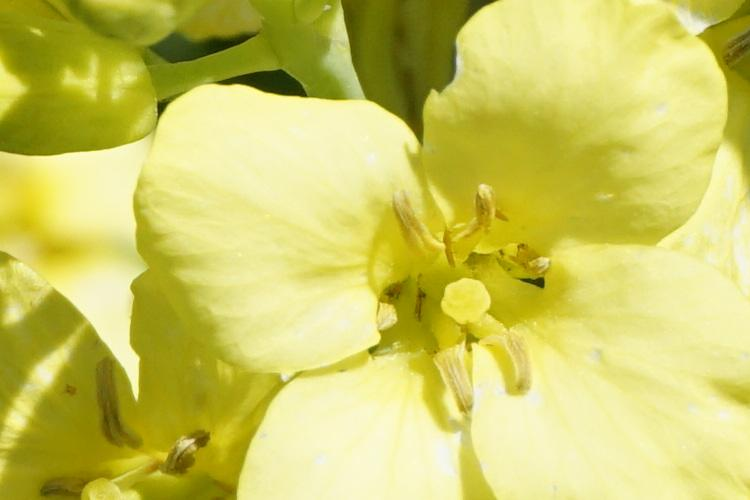yellow: (163, 25, 718, 485)
